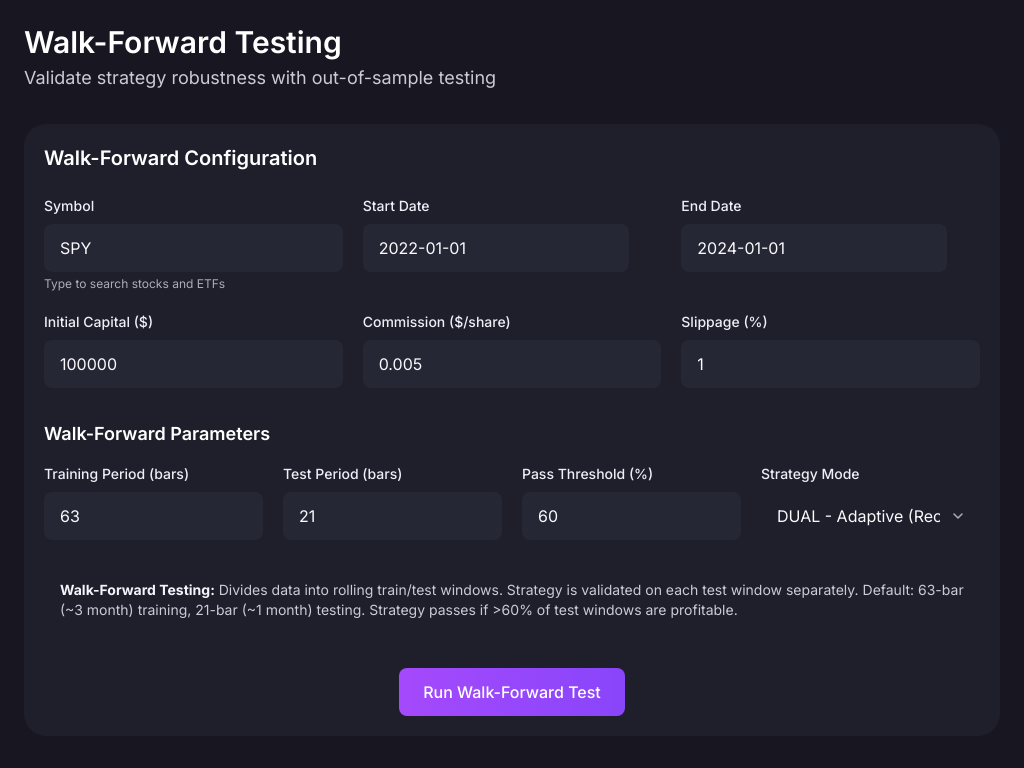
Walk-Forward Page › displays retry button when error occurs
Click the button "Run Walk-Forward Test" at (512, 692), box [399, 668, 625, 716]
(page scrolled)
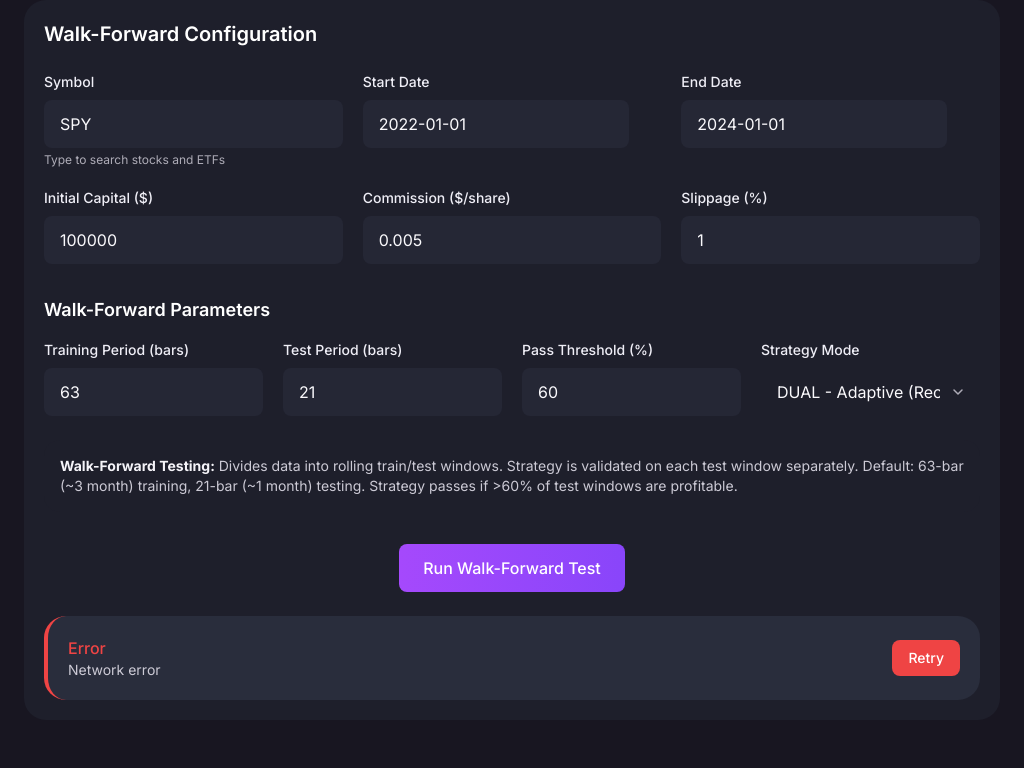
Expected: the button "Retry" is shown, [892, 640, 960, 676]
